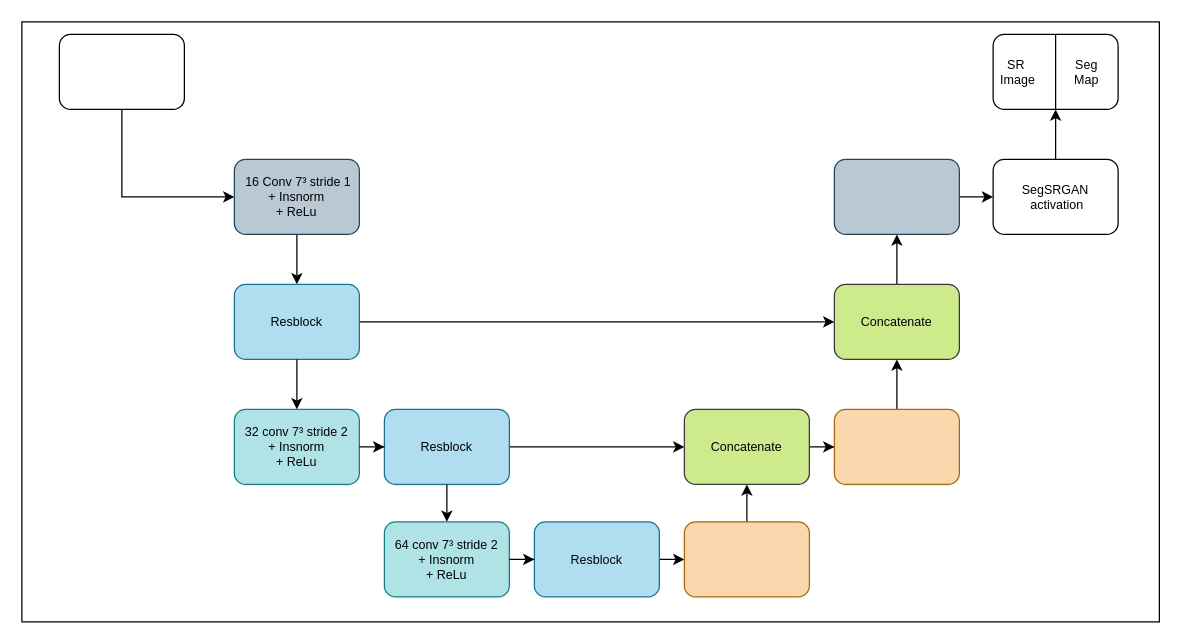
Some shapes in this 1181 by 644 pixel diagram are drawn without their labels. The shapes that lost their labels are listed below. From the top down, each one's box as (x1, y1, x2, y2) in pixels, then its label:
(58, 33, 184, 109): Interpolated image
(833, 158, 959, 234): 2 Conv 7³ stride 1 + Insnorm + ReLu
(833, 408, 959, 484): UpSampling 3D X2 16 Conv 7³ stride 1 + Insnorm + ReLu
(683, 521, 809, 597): UpSampling 3D X2 32 conv 7³ stride 1 + Insnorm + ReLu
